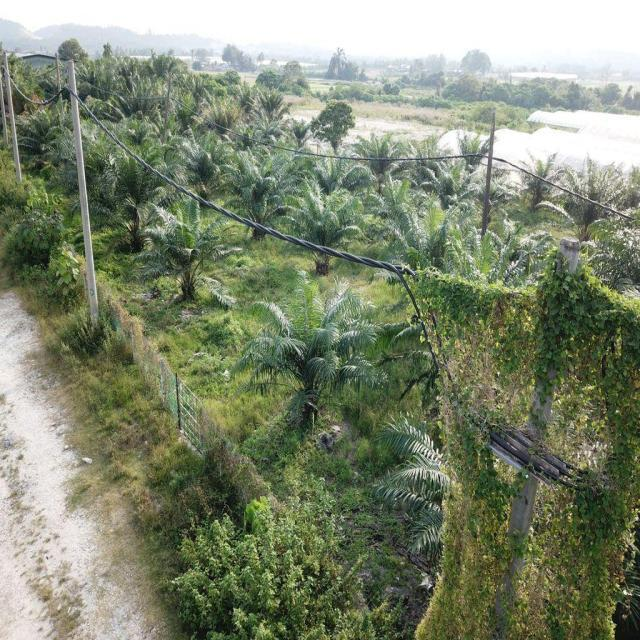critical vegetation: (405, 238, 640, 575)
